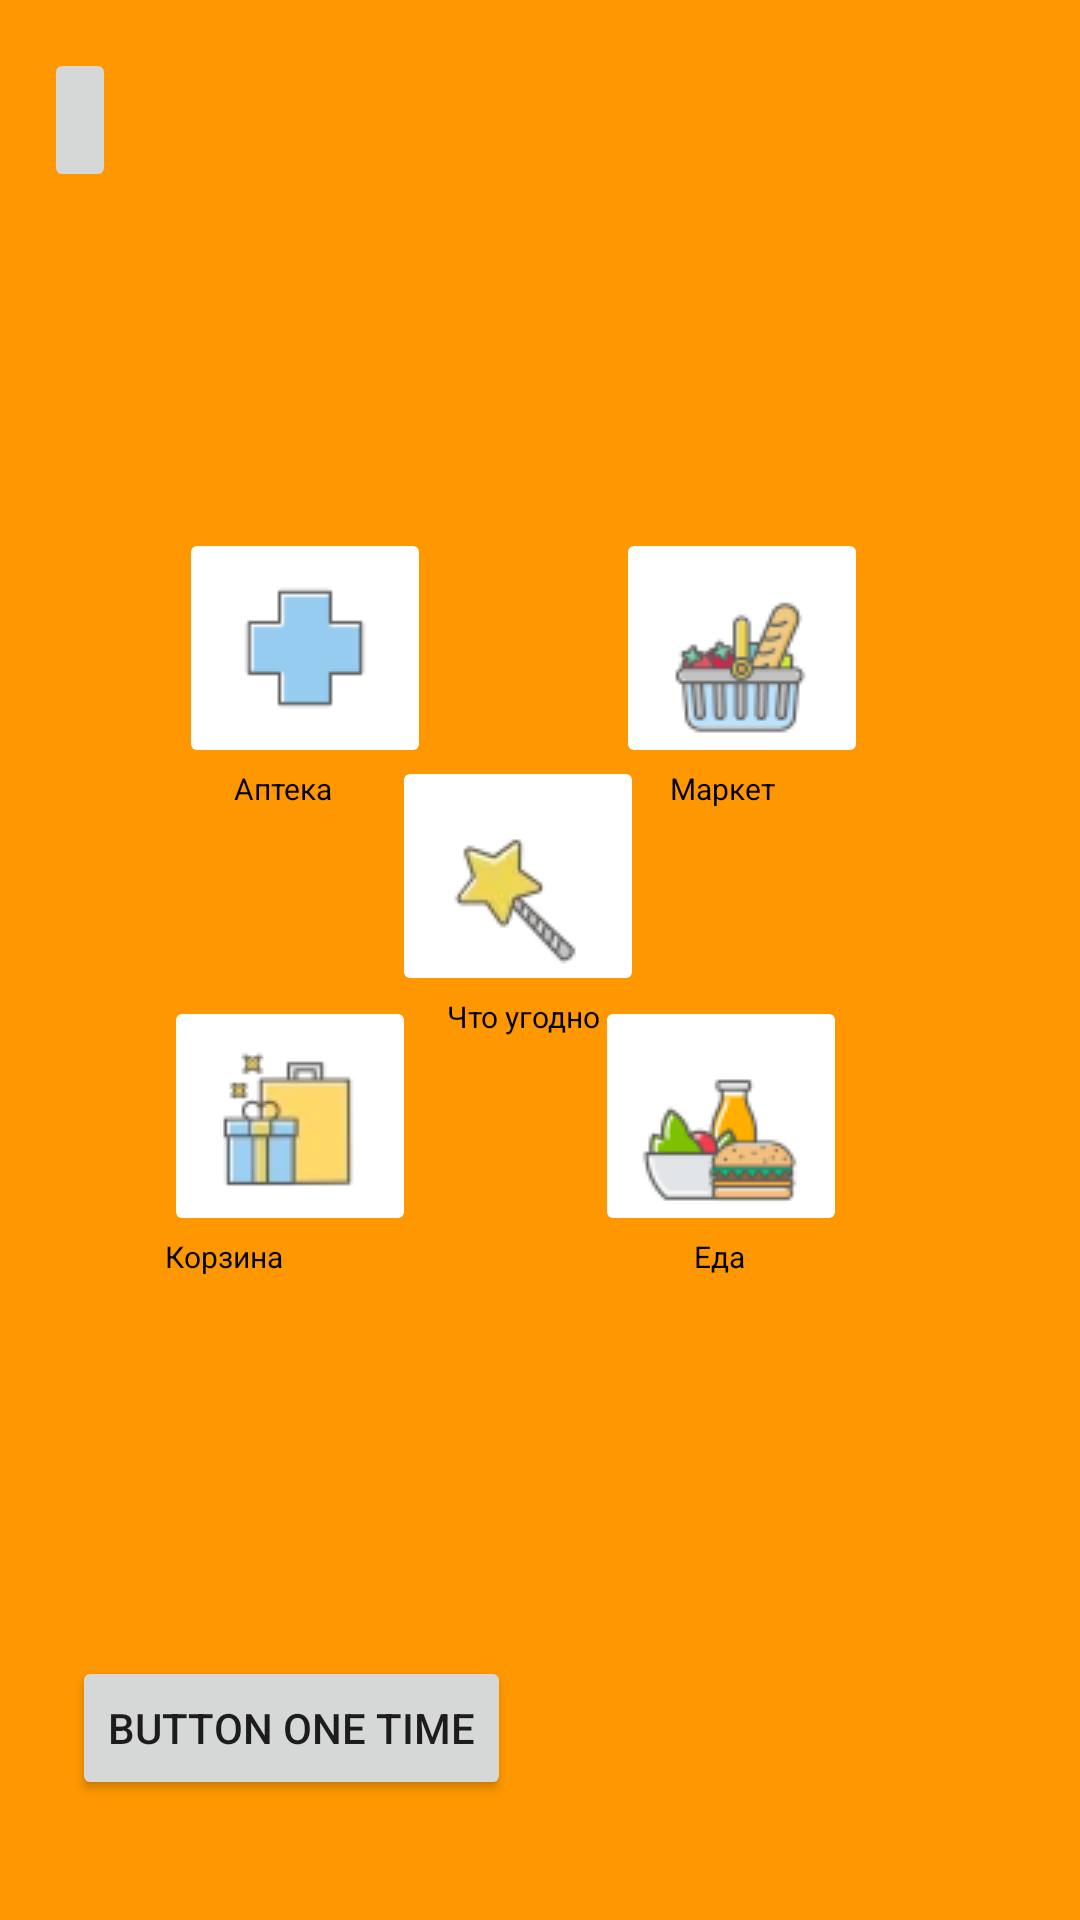

Icon click points for this 1080*1920 phone screenshot, format (x=x, y=y):
palockka: (x=518, y=876)
